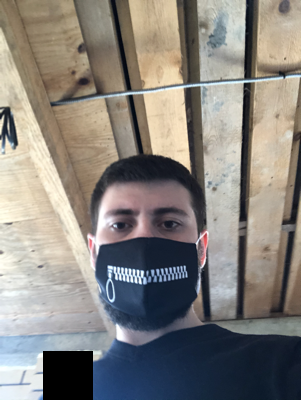with_mask: (94, 197, 198, 332)
